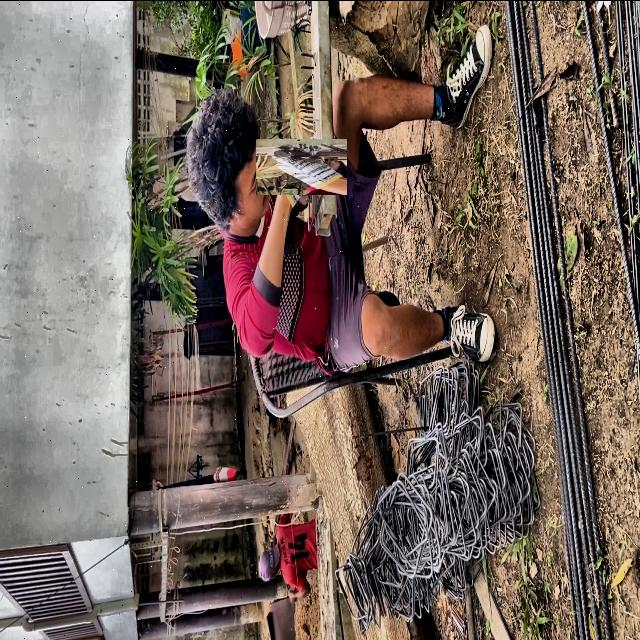gloved: (264, 129, 338, 203)
